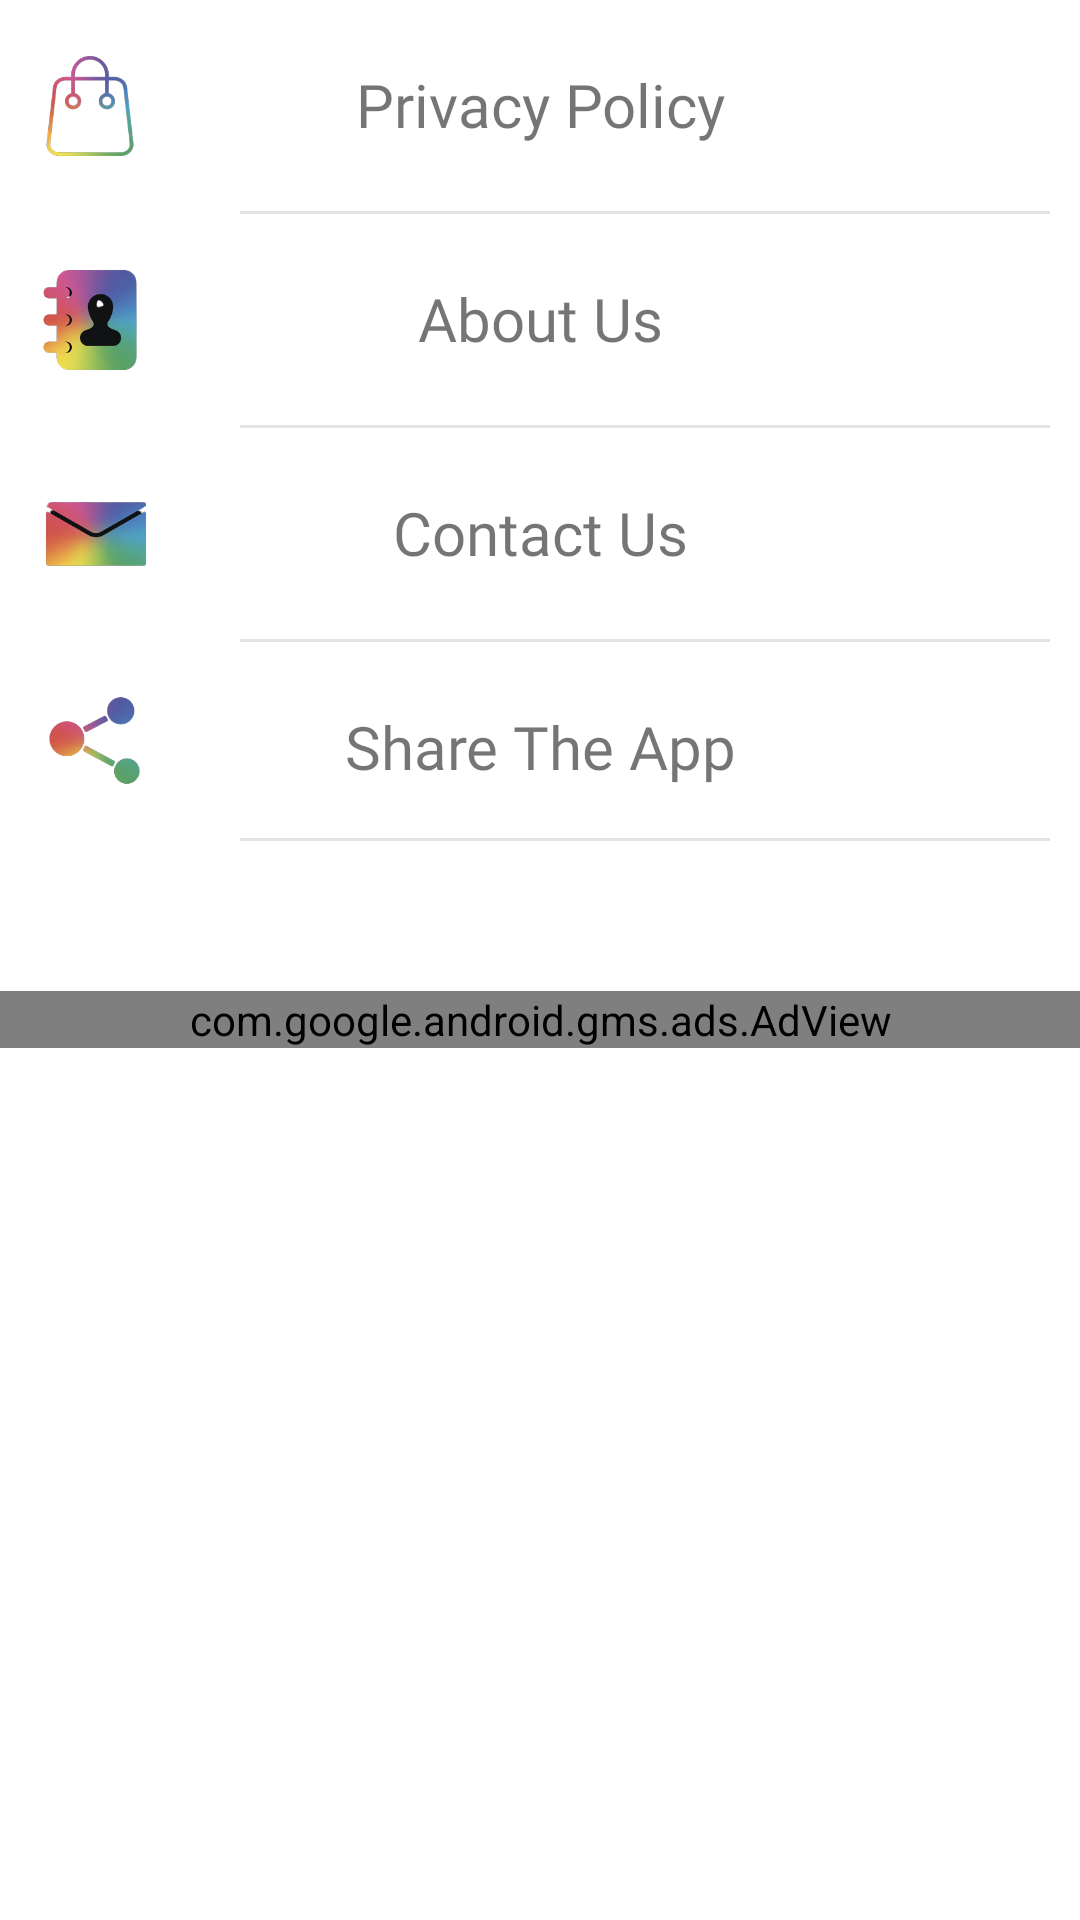

Where icons sit on this 1080 × 1920 app screen, as (x1, y1, x2, y2):
mail: (46, 502, 146, 566)
shareicon: (49, 697, 140, 784)
